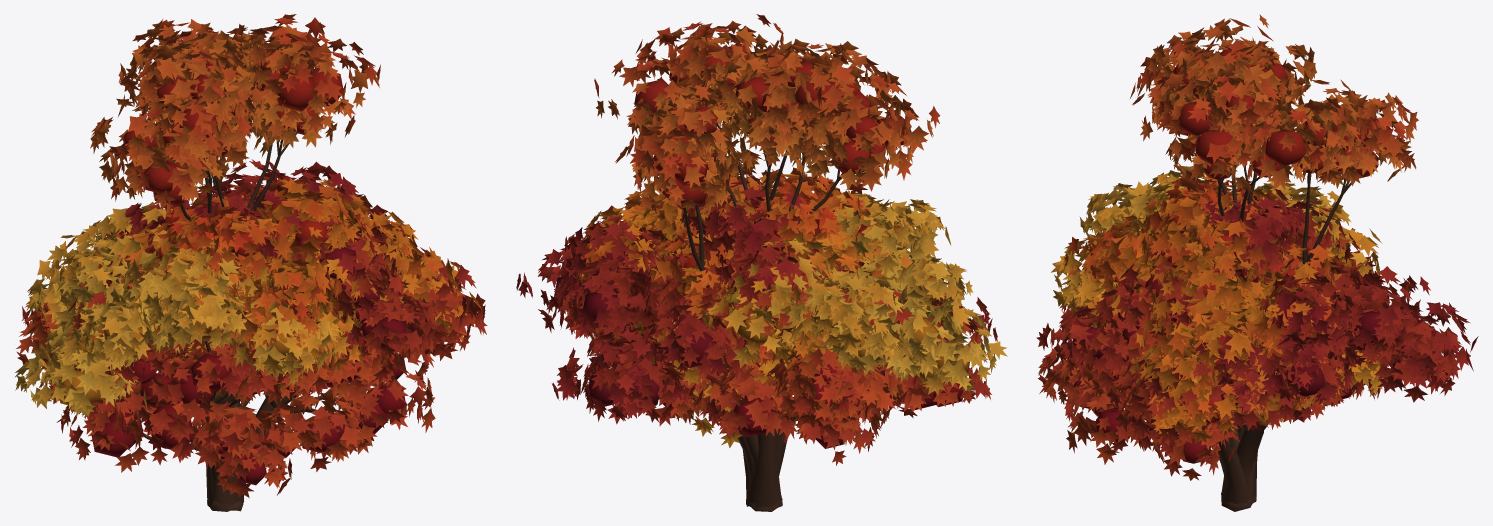
Rendered from maple_trees.glb.
3 views of the same model, side by side, from view 1: azimuth 30°, elevation 25°; view 2: azimuth 150°, elevation 25°; view 3: azimuth 270°, elevation 25° (orthographic). The views are drawn at different scales.
Visible parts, largest first — view 1: Maple_5_Foliage, Maple_3_Foliage, Maple_6_Foliage, Maple_1_Foliage, Maple_8_Foliage, Maple_0_Foliage, Maple_4_Foliage, Maple_2_Foliage, Maple_5_Trunk; view 2: Maple_5_Foliage, Maple_4_Foliage, Maple_3_Foliage, Maple_1_Foliage, Maple_6_Foliage, Maple_0_Foliage, Maple_2_Foliage, Maple_5_Trunk, Maple_8_Foliage, Maple_7_Foliage; view 3: Maple_5_Foliage, Maple_1_Foliage, Maple_4_Foliage, Maple_8_Foliage, Maple_3_Foliage, Maple_6_Foliage, Maple_2_Foliage, Maple_9_Foliage, Maple_0_Foliage, Maple_5_Trunk, Maple_8_Trunk, Maple_4_Trunk.
Part boxes in pixels (<box>): Maple_5_Foliage: <box>90,14,380,210</box>; Maple_3_Foliage: <box>15,202,350,416</box>; Maple_6_Foliage: <box>39,311,435,497</box>; Maple_1_Foliage: <box>149,178,481,356</box>; Maple_8_Foliage: <box>184,213,487,401</box>; Maple_0_Foliage: <box>16,200,398,409</box>; Maple_4_Foliage: <box>119,159,420,283</box>; Maple_2_Foliage: <box>111,227,423,372</box>; Maple_5_Trunk: <box>180,122,297,509</box>; Maple_5_Foliage: <box>594,14,940,214</box>; Maple_4_Foliage: <box>516,174,867,424</box>; Maple_3_Foliage: <box>701,190,1007,397</box>; Maple_1_Foliage: <box>559,149,875,321</box>; Maple_6_Foliage: <box>645,257,997,465</box>; Maple_0_Foliage: <box>665,220,915,431</box>; Maple_2_Foliage: <box>612,186,913,388</box>; Maple_5_Trunk: <box>682,113,860,511</box>; Maple_8_Foliage: <box>546,166,772,338</box>; Maple_7_Foliage: <box>692,347,800,447</box>; Maple_5_Foliage: <box>1130,14,1418,196</box>; Maple_1_Foliage: <box>1064,172,1352,444</box>; Maple_4_Foliage: <box>1152,189,1478,431</box>; Maple_8_Foliage: <box>1036,246,1353,451</box>; Maple_3_Foliage: <box>1051,166,1381,317</box>; Maple_6_Foliage: <box>1038,265,1399,480</box>; Maple_2_Foliage: <box>1062,189,1382,401</box>; Maple_9_Foliage: <box>1214,305,1340,432</box>; Maple_0_Foliage: <box>1061,200,1383,403</box>; Maple_5_Trunk: <box>1217,146,1351,504</box>; Maple_8_Trunk: <box>1127,359,1256,511</box>; Maple_4_Trunk: <box>1221,366,1394,507</box>.
Size of the model in its own units: 7.25 by 7.35 by 6.45.
